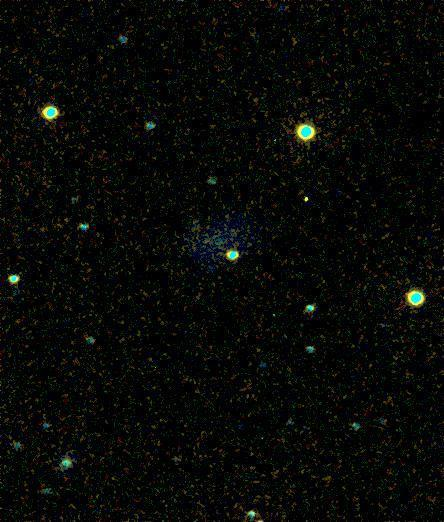star: (295, 185, 325, 215)
